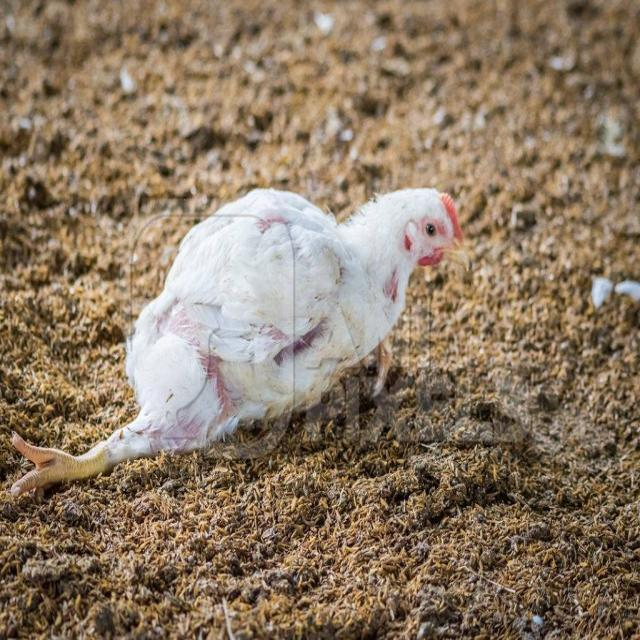AbNormal: (9, 189, 469, 499)
